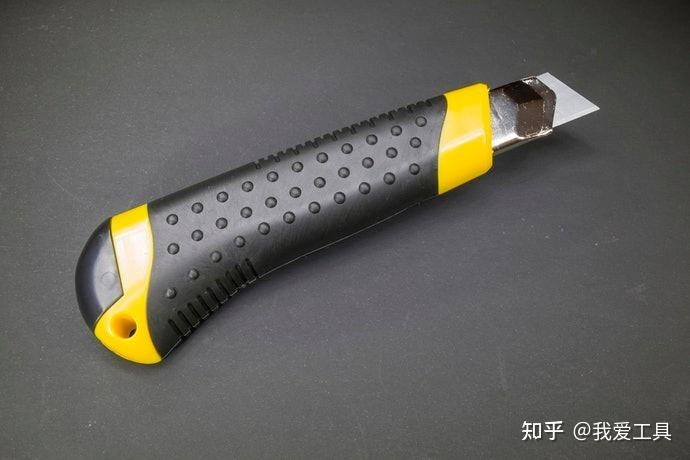cutter: (74, 71, 605, 365)
